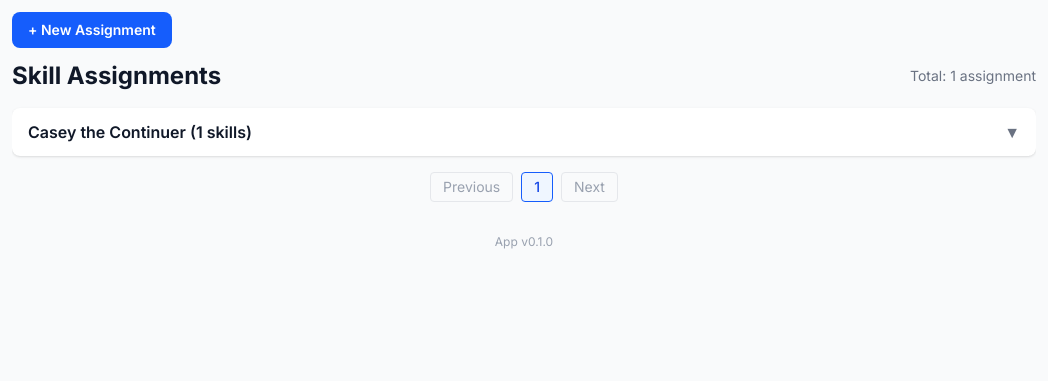
Scenario: DashboardPage live auto-update polling › polls GET /api/dashboard again after the interval elapses, without re-showing the loading skeleton
This screenshot has width=1048, height=381.
Expected: the text "Casey the Continuer (1 skills)" is shown, [28,120,252,144]
Click the button "Casey the Continuer (1 skills) ▼": (107, 132) [12,108,1036,156]
Wait 12000 ms
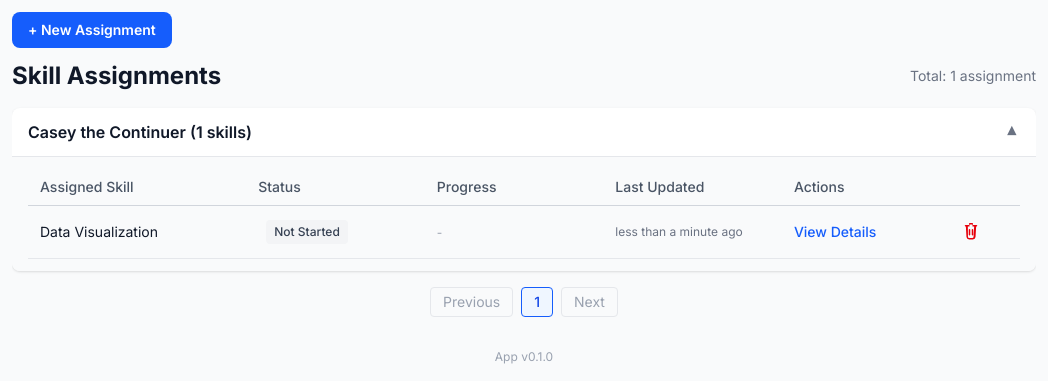
Expected: the text "Casey the Continuer (1 skills)" is shown, [28,120,252,144]
Now the button "View Details" is shown, box [794,222,876,242]
